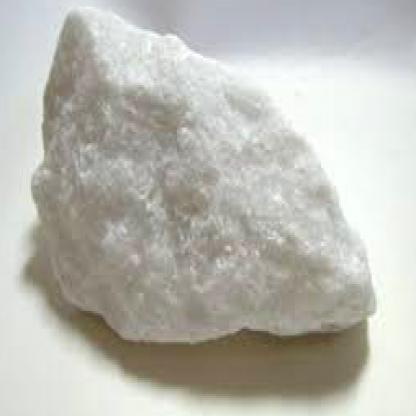Metamorphic_Marble: (26, 4, 385, 340)
